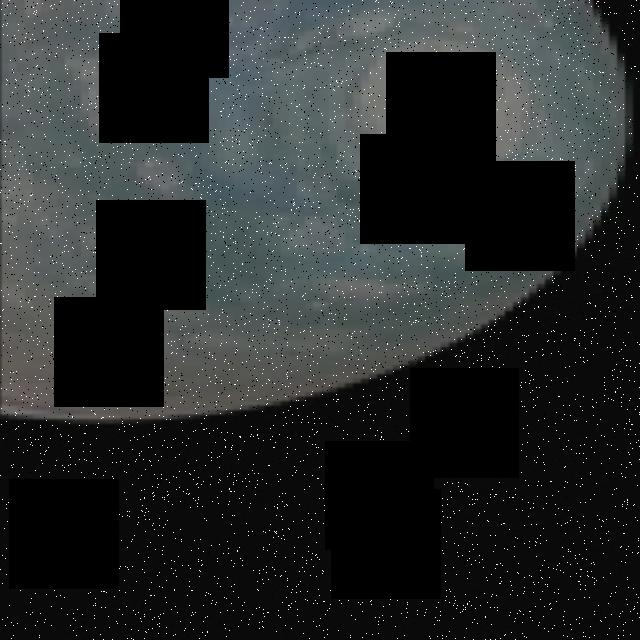Jupiter: (0, 0, 632, 428)
